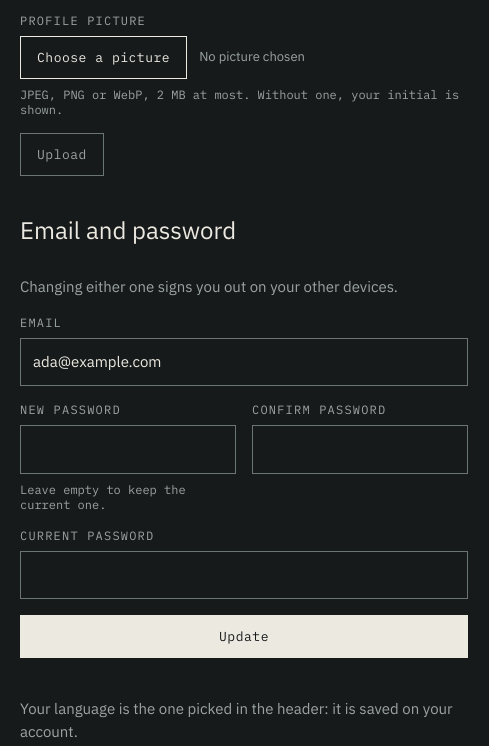
ProfilePage email and password form › sends the new email with the current password
The width and height of the screenshot is (489, 746).
(page scrolled)
Replace the text in the field labelled "Email" with "Ada@Example.org" at (244, 362), box [20,338,468,386]
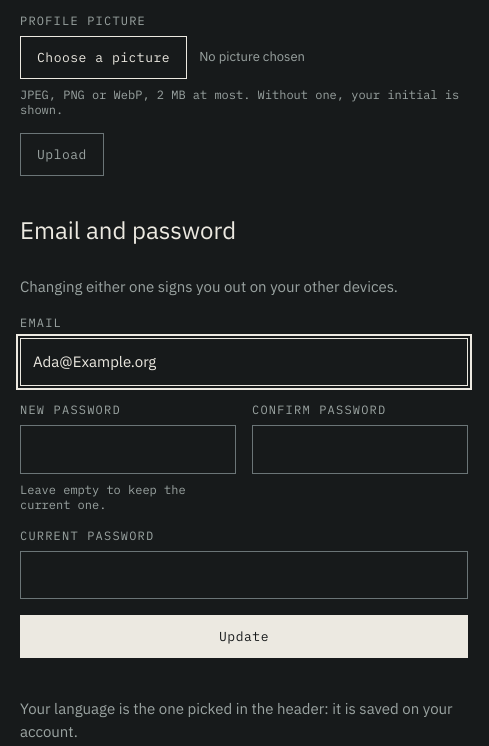
Type "secret-123" into the password field labelled "Current password".
click(244, 575); type("secret-123")  # box [20,551,468,599]
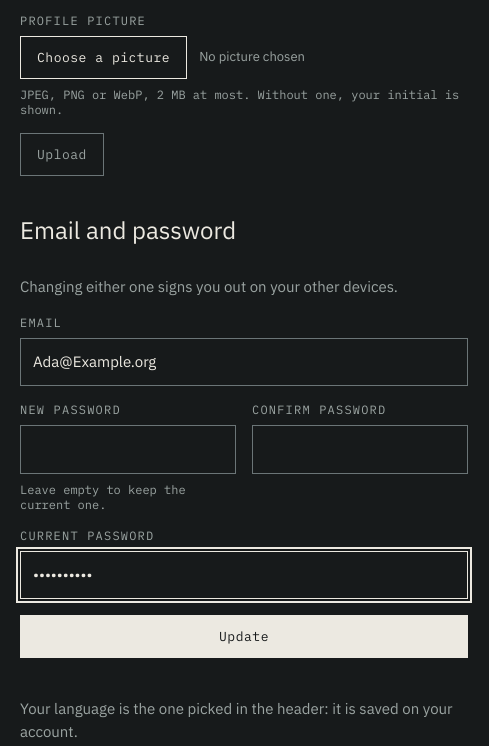
Click the button "Update".
click(244, 637)  # box [20,615,468,658]
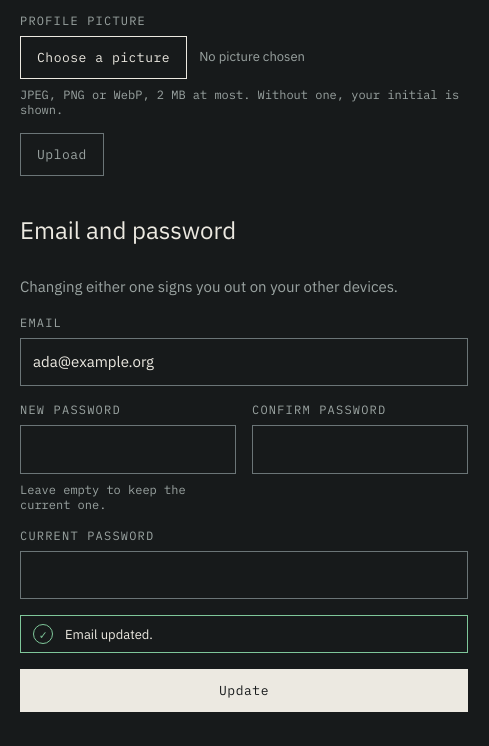
expect the text "Email updated." is shown: met, box [65,625,153,644]
